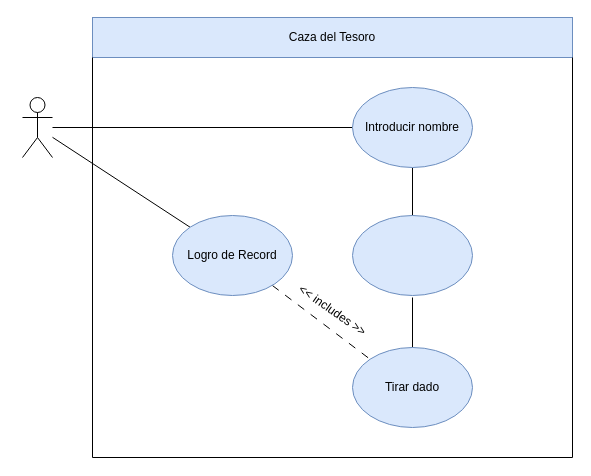
The diagram is 591 pixels wide and 476 high, and some of its shapes have lost their labels. The shapes that lost their labels are listed below. From the top down, each one's box as (x1, y1, x2, y2) in pixels, then its label:
(22, 96, 52, 158): Usuario
(352, 214, 472, 296): Jugar
